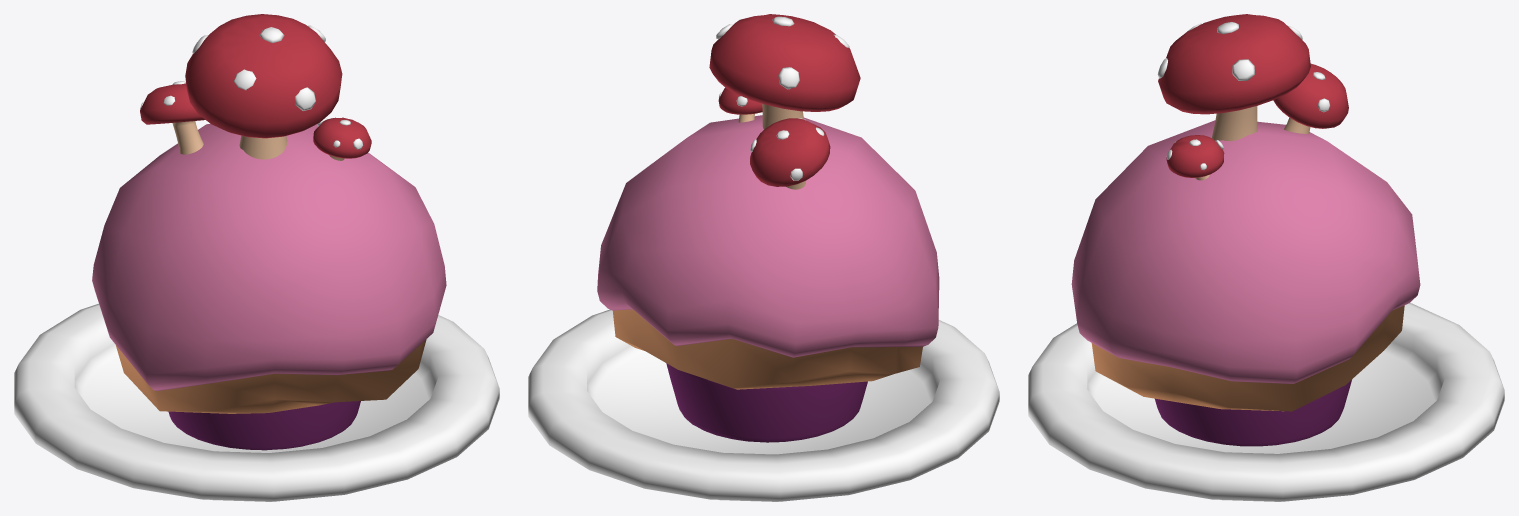
The model's file is Shroom_Muffin_w_Plate_Food.glb.
The picture shows the model from 3 angles, left to right: view 1: azimuth 30°, elevation 25°; view 2: azimuth 150°, elevation 25°; view 3: azimuth 270°, elevation 25°; orthographic projection. The views are drawn at different scales.
Visible parts, largest first — view 1: Shroom_Muffin_w_Plate_Food; view 2: Shroom_Muffin_w_Plate_Food; view 3: Shroom_Muffin_w_Plate_Food.
Part boxes in pixels (x1=…): Shroom_Muffin_w_Plate_Food: x1=14, y1=14, x2=499, y2=501; Shroom_Muffin_w_Plate_Food: x1=528, y1=14, x2=999, y2=501; Shroom_Muffin_w_Plate_Food: x1=1028, y1=14, x2=1504, y2=501.
Bounding box in the file's own units: 0.1089 × 0.1021 × 0.1086.
Materials: 1 (1 with a texture image).
